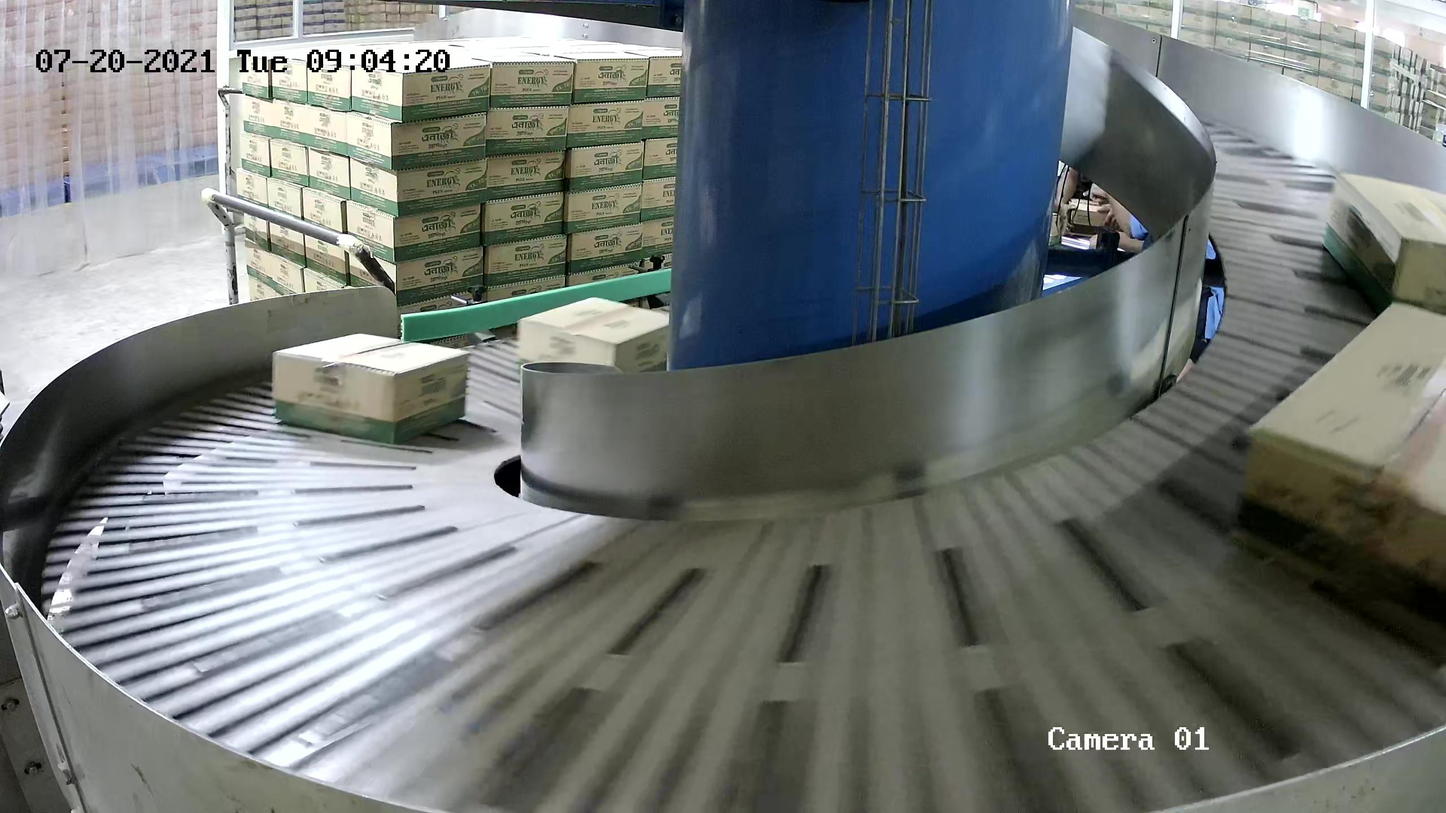Box: (1226, 296, 1446, 646), (273, 331, 472, 446), (1319, 172, 1446, 331), (516, 294, 687, 395)
